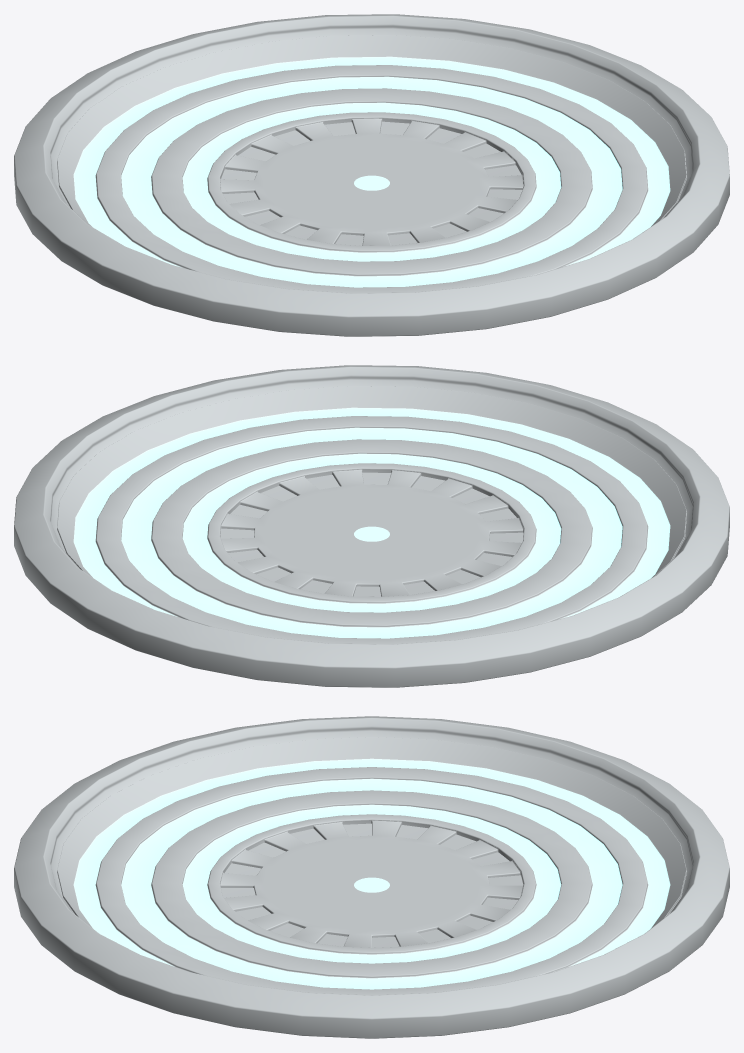
The model's file is teleport_spot.glb.
The picture shows the model from 3 angles, top to bottom: view 1: azimuth 30°, elevation 25°; view 2: azimuth 150°, elevation 25°; view 3: azimuth 270°, elevation 25°; orthographic projection.
Parts seen in each view (by area): view 1: Circle; view 2: Circle; view 3: Circle.
Boxes of the visible parts, x1,y1,x2,y2 form: Circle: (14, 14, 729, 336); Circle: (14, 365, 729, 687); Circle: (14, 716, 729, 1038).
Size of the model in its own units: 0.5 by 0.0258 by 0.5.
